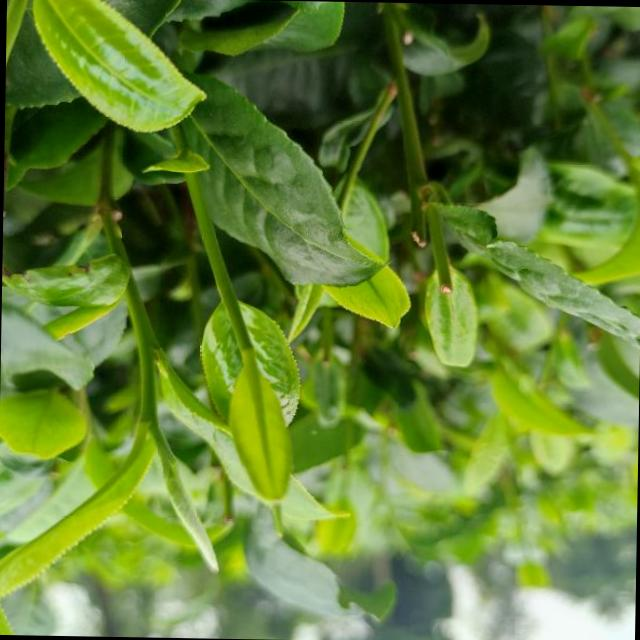Stem: (233, 330, 251, 350), (139, 403, 157, 420)
